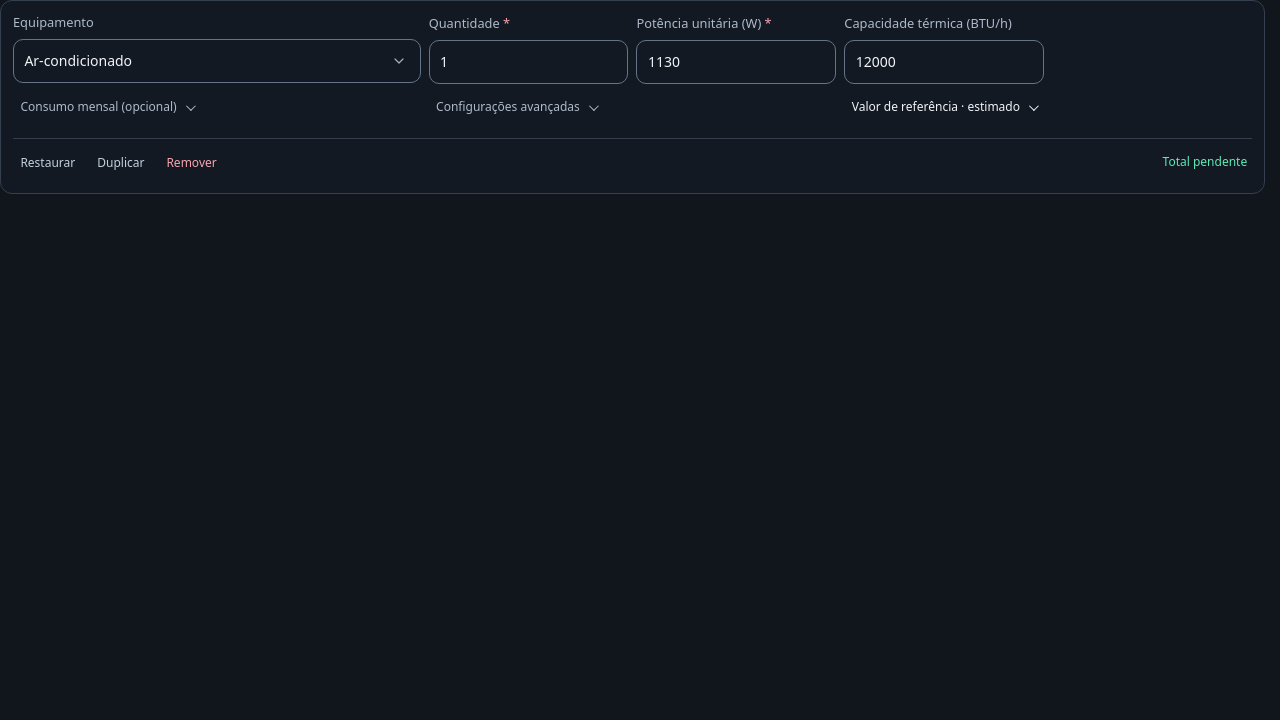
Test case: quantity edits keep the same source rating and switching to lighting selects its nature
The width and height of the screenshot is (1280, 720).
Replace the text in the number field labelled "Quantidade" with "2". click: (529, 62)
box: [429,40,628,84]
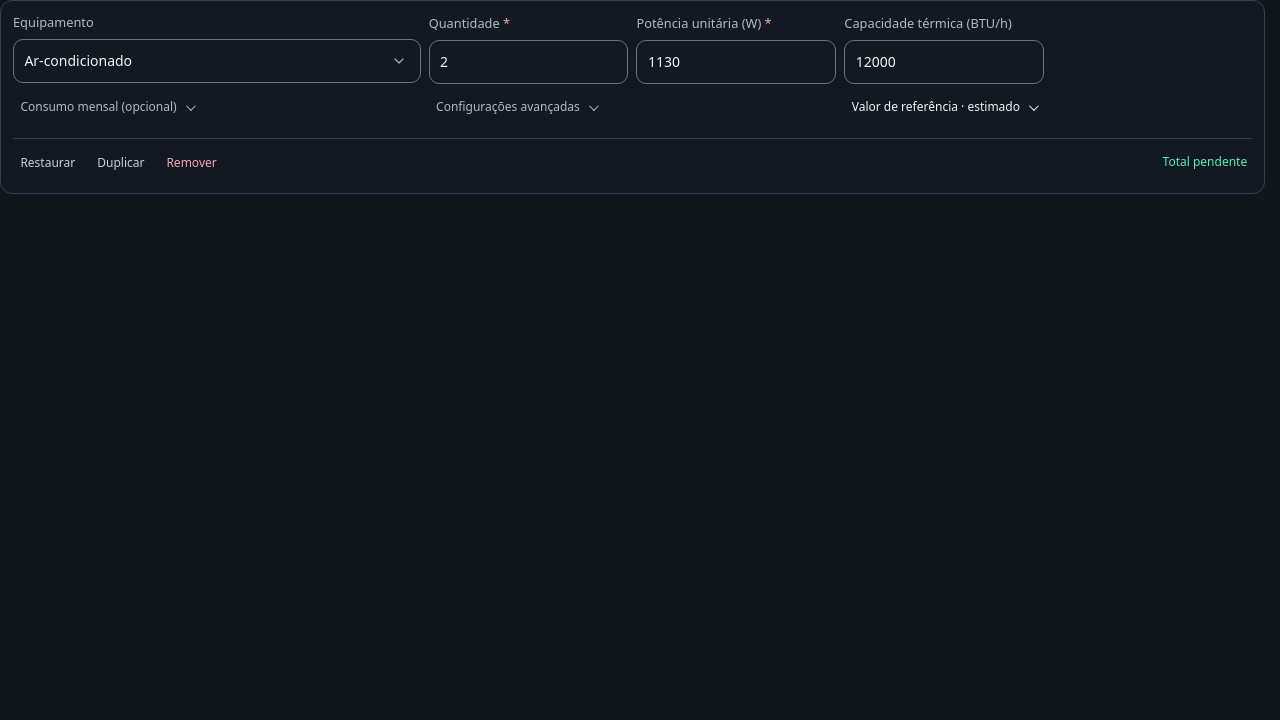
Expected: the heading "Valor de referência · estimado" does not show "editado", [852,98,1020,116]
Click the heading "Configurações avançadas". click: (508, 107)
box: [436,98,580,116]
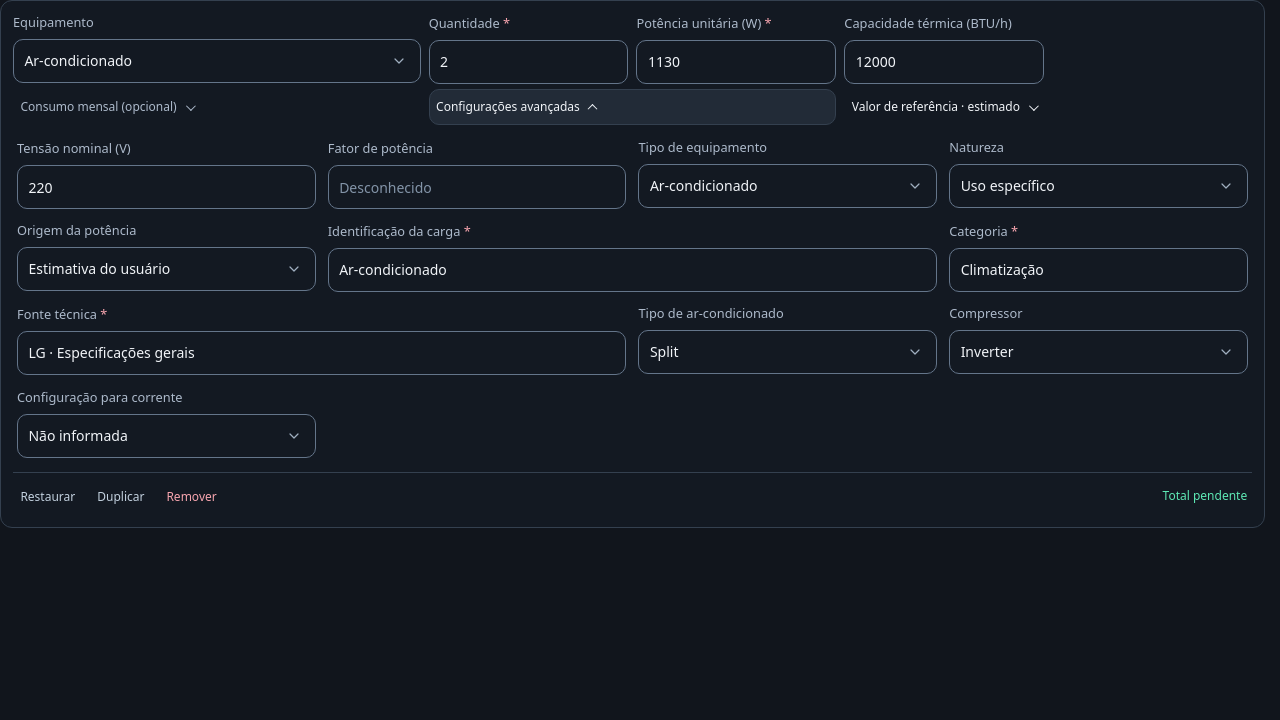
Select "Iluminação" in the dropdown labelled "Tipo de equipamento". click: (788, 186)
box: [638,164,937,208]
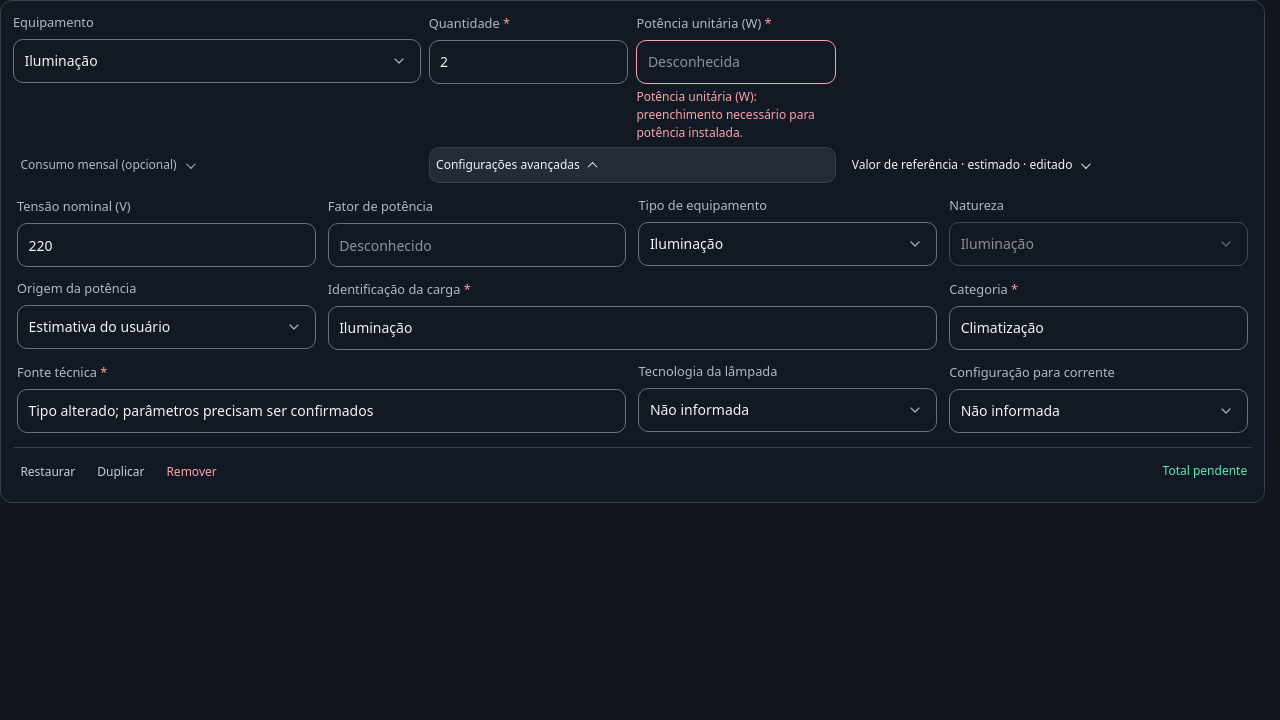
Now the dropdown labelled "Natureza" shows "Iluminação", box [949,222,1248,266]
Now the dropdown labelled "Natureza" is disabled, box [949,222,1248,266]
